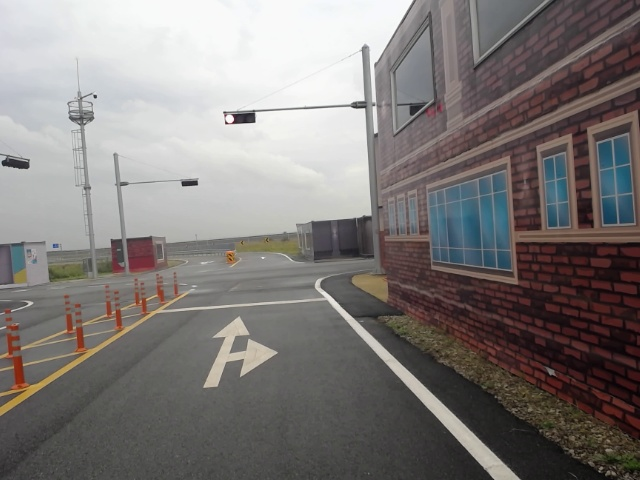red_3: (225, 112, 256, 124)
